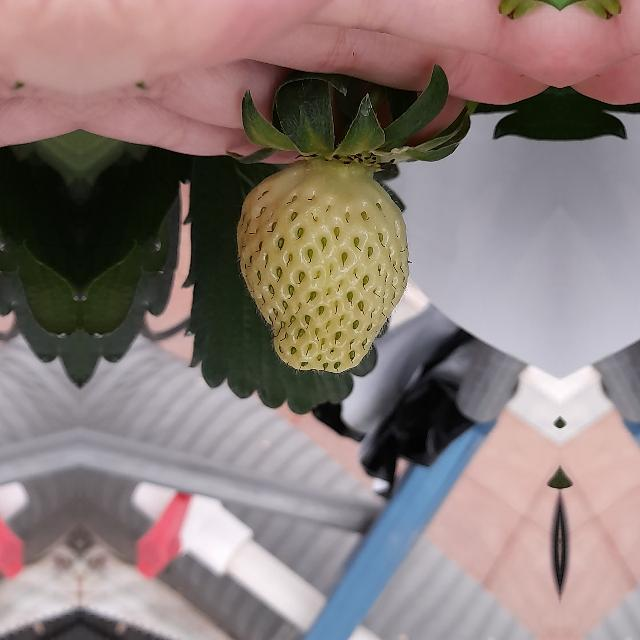Health_25: (236, 160, 409, 372)
